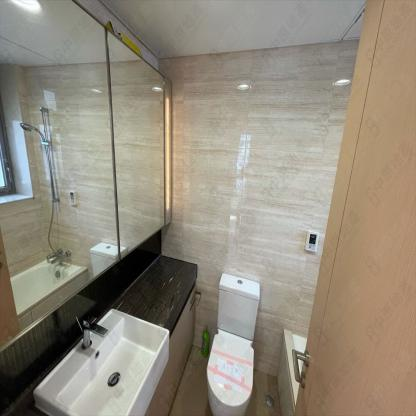Faucet: (76, 313, 112, 354)
Toilet: (206, 272, 264, 415)
